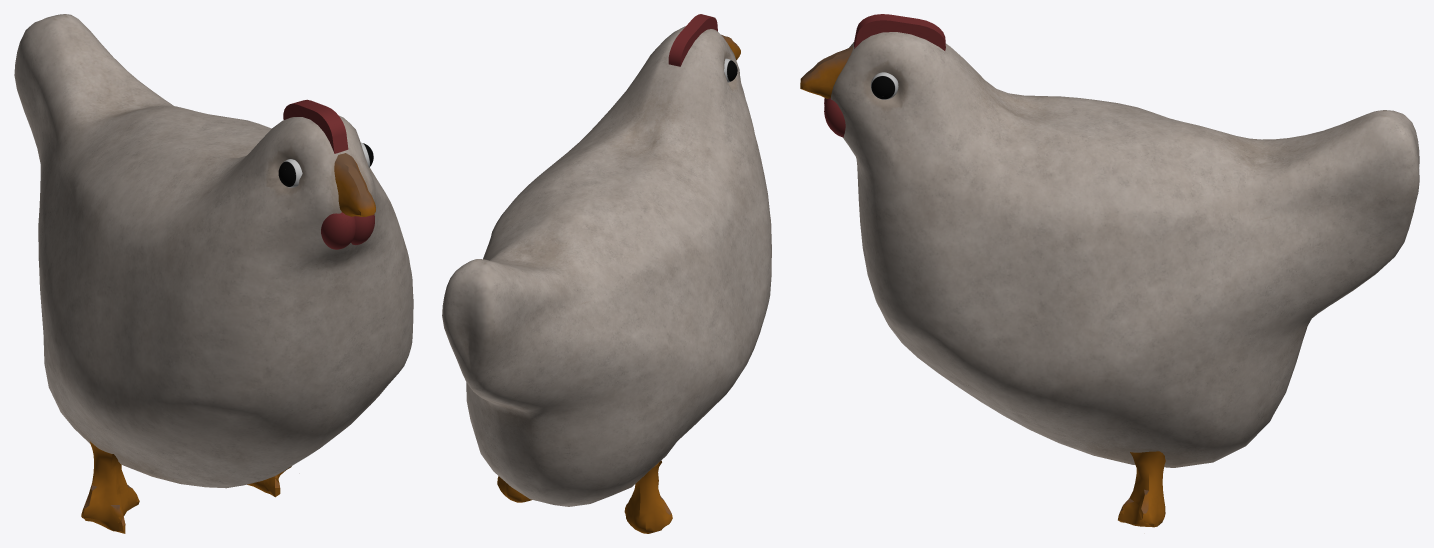
Rendered from КУР1.fbx.
3 views of the same model, side by side, from view 1: azimuth 30°, elevation 25°; view 2: azimuth 150°, elevation 25°; view 3: azimuth 270°, elevation 25° (orthographic). The views are drawn at different scales.
Visible parts, largest first — view 1: Plane, Cube.002, Cube.001, Sphere, Cube, Sphere.001; view 2: Plane, Cube.002, Cube; view 3: Plane, Cube.002, Cube, Cube.001.
Part boxes in pixels (x1=…): Plane: x1=14, y1=14, x2=413, y2=488; Cube.002: x1=81, y1=441, x2=291, y2=533; Cube.001: x1=334, y1=153, x2=375, y2=216; Sphere: x1=321, y1=212, x2=374, y2=249; Cube: x1=283, y1=99, x2=348, y2=153; Sphere.001: x1=278, y1=142, x2=373, y2=187; Plane: x1=442, y1=26, x2=771, y2=506; Cube.002: x1=497, y1=460, x2=672, y2=533; Cube: x1=668, y1=14, x2=717, y2=66; Plane: x1=831, y1=32, x2=1419, y2=467; Cube.002: x1=1118, y1=451, x2=1165, y2=527; Cube: x1=854, y1=14, x2=945, y2=50; Cube.001: x1=800, y1=46, x2=852, y2=98.
Size of the model in its own units: 141 by 233 by 277.
